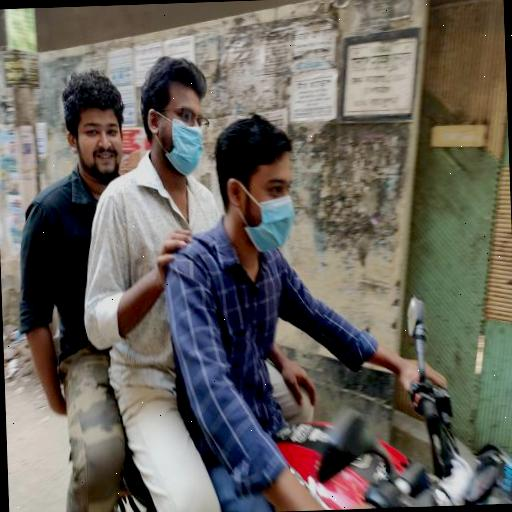no helmet: (210, 96, 328, 280)
triple riding: (1, 29, 512, 512)
